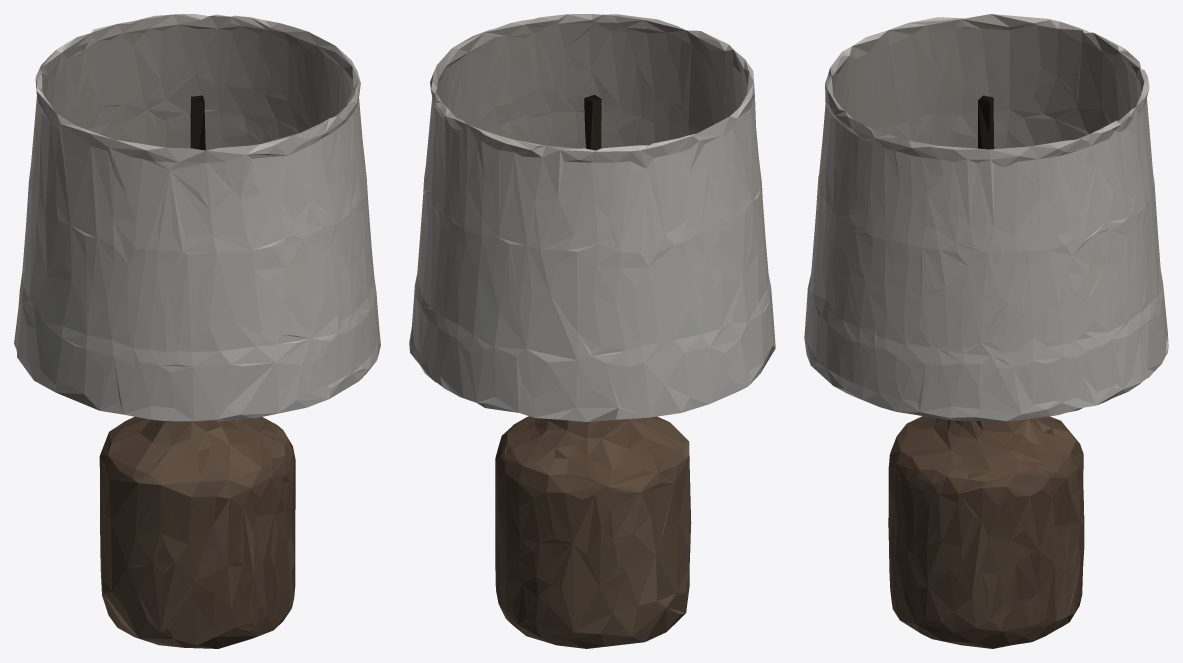
Rendered from lamp-lo.glb.
The picture shows the model from 3 angles, left to right: view 1: azimuth 30°, elevation 25°; view 2: azimuth 150°, elevation 25°; view 3: azimuth 270°, elevation 25°; orthographic projection.
Parts seen in each view (by area): view 1: geometry_0; view 2: geometry_0; view 3: geometry_0.
Part boxes in pixels (x1=…): geometry_0: x1=14, y1=14, x2=380, y2=648; geometry_0: x1=409, y1=14, x2=775, y2=648; geometry_0: x1=804, y1=14, x2=1168, y2=648.
Bounding box in the file's own units: 0.6123 × 0.9815 × 0.6088.
Materials: 1 (1 with a texture image).
